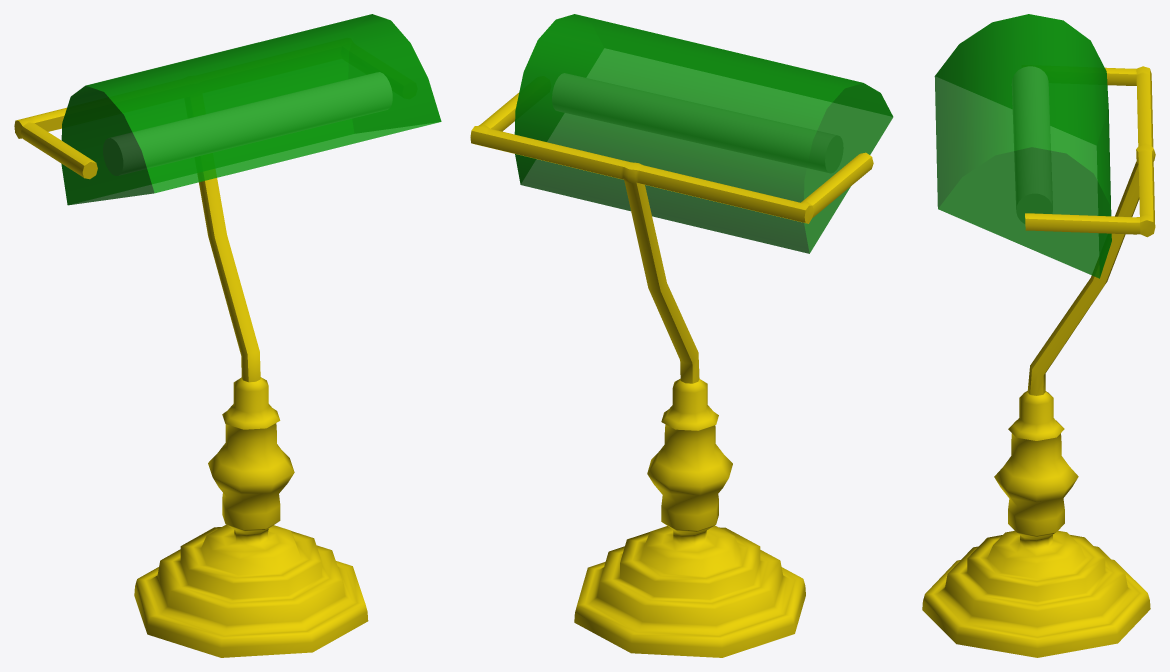
Rendered from fancy desk lamp.fbx.
3 renders of one model, left to right at view 1: azimuth 30°, elevation 25°; view 2: azimuth 150°, elevation 25°; view 3: azimuth 270°, elevation 25°, orthographic. The views are drawn at different scales.
Parts seen in each view (by area): view 1: lamp; view 2: lamp; view 3: lamp.
Boxes of the visible parts, x1,y1,x2,y2 form: lamp: [14, 14, 441, 657]; lamp: [470, 14, 893, 657]; lamp: [922, 14, 1155, 657].
Size of the model in its own units: 11.4 by 17.92 by 7.21.
